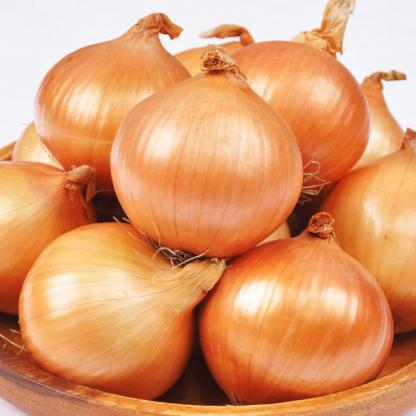onion: (210, 233, 389, 416), (116, 78, 300, 247), (30, 214, 186, 397), (228, 23, 370, 200), (40, 32, 190, 180), (3, 154, 80, 304)
